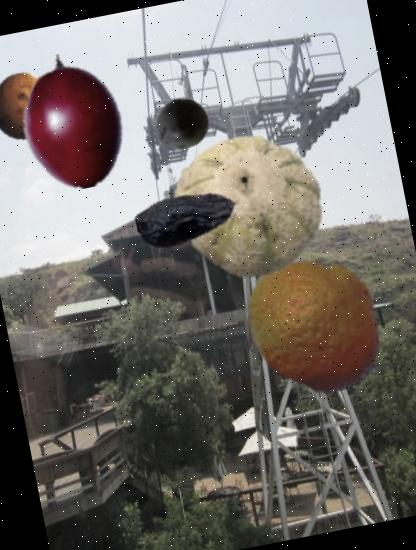Cantaloupe: (161, 117, 335, 291)
Dates: (127, 158, 246, 278)
Granadilla: (0, 65, 66, 148)
Mandarine: (228, 236, 402, 410)
Plum: (150, 92, 214, 156)
Tamarillo: (0, 40, 153, 202)
